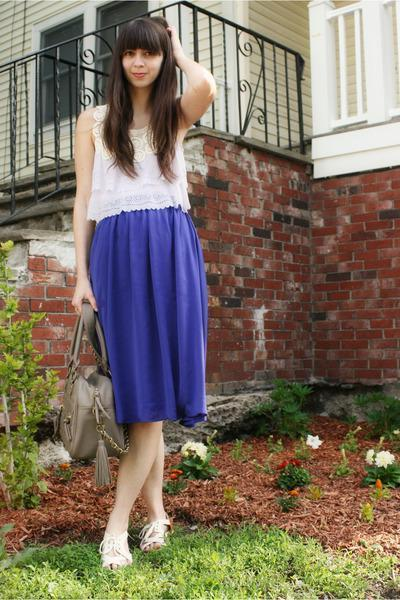skirt: (86, 204, 213, 424)
vest: (82, 91, 192, 225)
